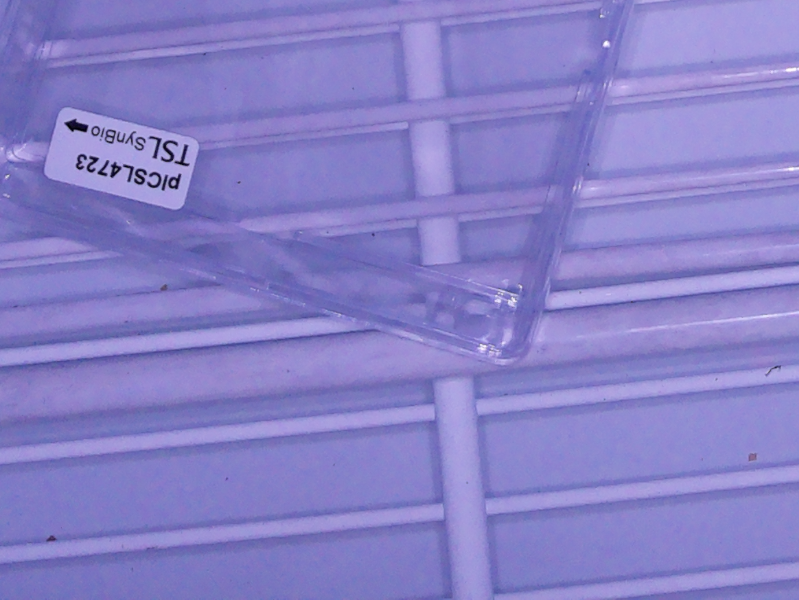plate: (1, 1, 640, 369)
